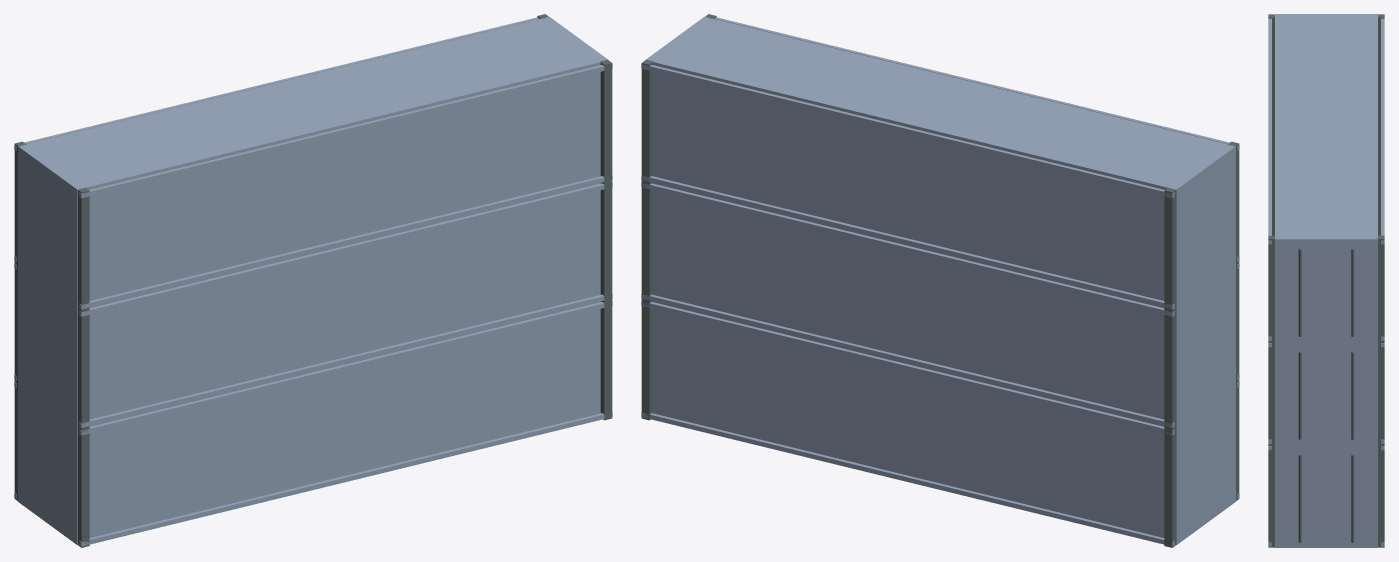
3 renders of one model, left to right at view 1: azimuth 30°, elevation 25°; view 2: azimuth 150°, elevation 25°; view 3: azimuth 270°, elevation 25°, orthographic. The views are drawn at different scales.
Size of the model in its own units: 12.36 by 7.8 by 2.66.
